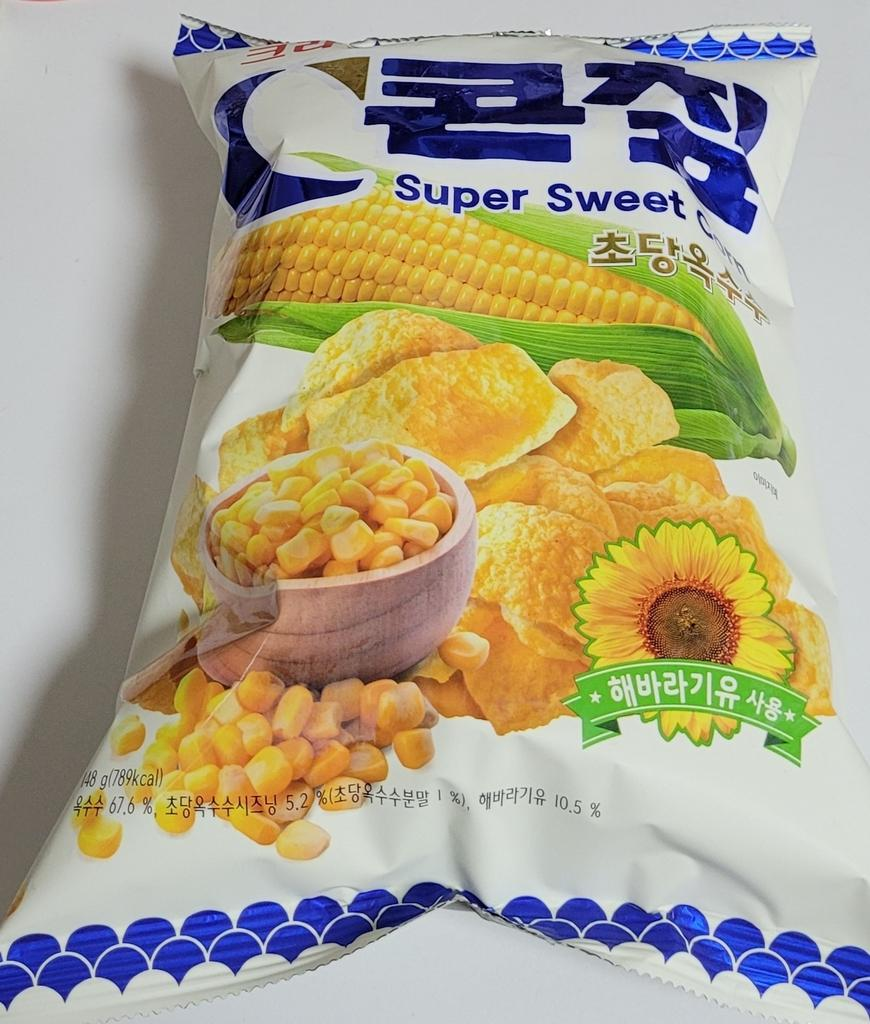snack: (0, 7, 870, 1024)
